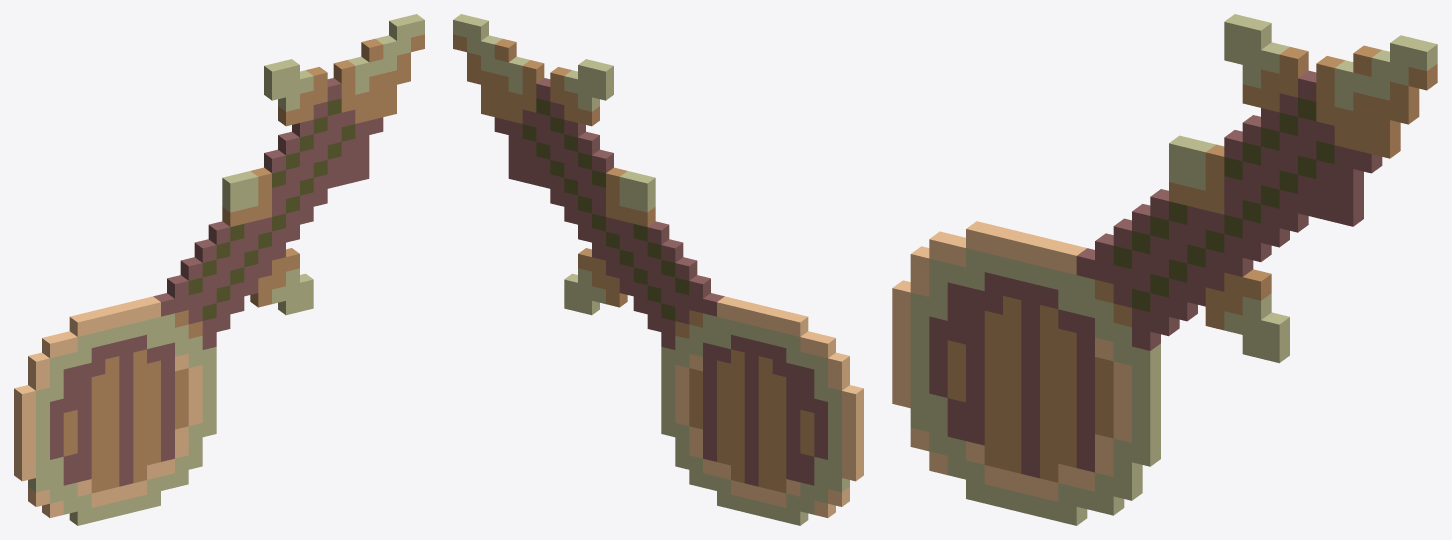
Rendered from I_Key04.fbx.
The picture shows the model from 3 angles, left to right: view 1: azimuth 30°, elevation 25°; view 2: azimuth 150°, elevation 25°; view 3: azimuth 330°, elevation 25°; orthographic projection. The views are drawn at different scales.
Parts seen in each view (by area): view 1: Default; view 2: Default; view 3: Default.
Boxes of the visible parts, x1,y1,x2,y2 form: Default: [14, 14, 424, 525]; Default: [453, 14, 863, 525]; Default: [892, 14, 1437, 525].
Size of the model in its own units: 29 by 29 by 1.
1 material, 1 textured.
